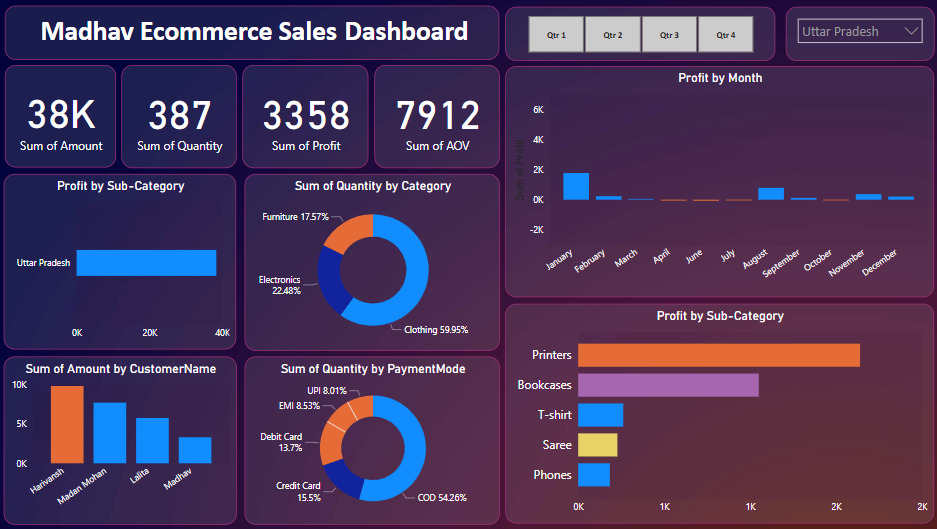

The dashboard page shown, as its layout file describes it:
{"tool":"powerbi","page":{"name":"Page 1","canvas":[1280,720],"ordinal":0},"visuals":[{"type":"textbox","box":[12.5,8.8,671.2,73.7],"z":0},{"type":"columnChart","title":"Profit by Month","fields":{"Category":["Orders.Order Date.Variation.Date Hierarchy.Month"],"Y":["Details.Profit"]},"box":[691.7,91.7,581.7,313.3],"z":1000},{"type":"barChart","title":"Profit by Sub-Category","fields":{"Category":["Details.Sub-Category"],"Y":["Details.Profit"]},"box":[691.7,413.3,581.7,298.3],"z":2000},{"type":"donutChart","fields":{"Category":["Details.Category"],"Y":["Details.Quantity"]},"box":[336.7,236.7,346.7,240],"z":3000},{"type":"donutChart","fields":{"Category":["Details.PaymentMode"],"Y":["Details.Quantity"]},"box":[336.7,485,346.7,228.3],"z":4000},{"type":"card","fields":{"Values":["Details.Amount"]},"box":[11.2,90,151.2,138.7],"z":5000},{"type":"card","fields":{"Values":["Details.Quantity"]},"box":[170,90,156.2,140],"z":6000},{"type":"card","fields":{"Values":["Details.Profit"]},"box":[335,90,171.2,140],"z":7000},{"type":"card","fields":{"Values":["Details.AOV"]},"box":[513.8,90,170,140],"z":8000},{"type":"barChart","title":"Profit by Sub-Category","fields":{"Category":["Orders.State"],"Y":["Details.Amount"]},"box":[10,237.1,315.7,238.6],"z":9000},{"type":"columnChart","fields":{"Category":["Orders.CustomerName"],"Y":["Details.Amount"]},"box":[10,485,316,228],"z":10000},{"type":"slicer","fields":{"Values":["Orders.Order Date.Variation.Date Hierarchy.Quarter"]},"box":[691.7,10,366.7,73.3],"z":11000},{"type":"slicer","fields":{"Values":["Orders.State"]},"box":[1071.7,10,201.7,73.3],"z":12000}]}

Visuals, with their boxes in screenshot pixels (x1, y1, x2, y2), scaled from the page's 1280x720 canvas onto the 937x529 screenshot:
textbox: left=9, top=6, right=500, bottom=61
"Profit by Month" columnChart: left=506, top=67, right=932, bottom=298
"Profit by Sub-Category" barChart: left=506, top=304, right=932, bottom=523
donutChart - Details.Category x Details.Quantity: left=246, top=174, right=500, bottom=350
donutChart - Details.PaymentMode x Details.Quantity: left=246, top=356, right=500, bottom=524
card - Details.Amount: left=8, top=66, right=119, bottom=168
card - Details.Quantity: left=124, top=66, right=239, bottom=169
card - Details.Profit: left=245, top=66, right=371, bottom=169
card - Details.AOV: left=376, top=66, right=501, bottom=169
"Profit by Sub-Category" barChart: left=7, top=174, right=238, bottom=350
columnChart - Orders.CustomerName x Details.Amount: left=7, top=356, right=239, bottom=524
slicer - Orders.Order Date.Variation.Date Hierarchy.Quarter: left=506, top=7, right=775, bottom=61
slicer - Orders.State: left=785, top=7, right=932, bottom=61
